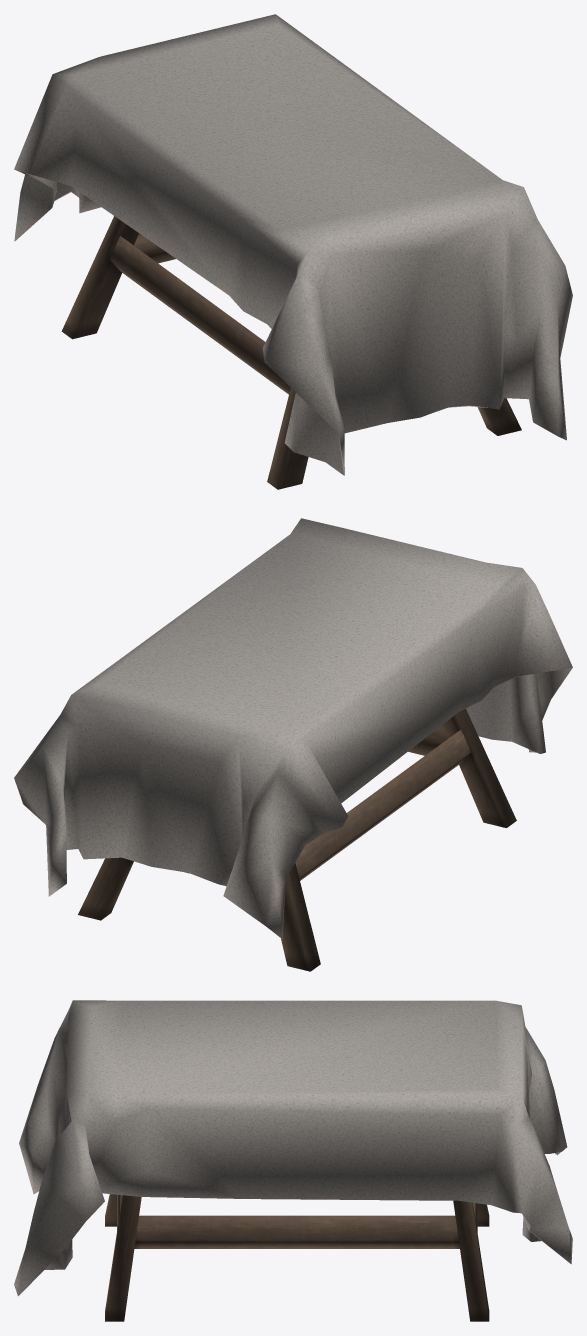
Rendered from Table.fbx.
The picture shows the model from 3 angles, top to bottom: view 1: azimuth 30°, elevation 25°; view 2: azimuth 150°, elevation 25°; view 3: azimuth 270°, elevation 25°; orthographic projection. The views are drawn at different scales.
Parts seen in each view (by area): view 1: Table_cloth_low, Table_body_low; view 2: Table_cloth_low, Table_body_low; view 3: Table_cloth_low, Table_body_low.
Boxes of the visible parts, <box> form: Table_cloth_low: <box>14,14,572,475</box>; Table_body_low: <box>61,216,521,489</box>; Table_cloth_low: <box>14,518,572,939</box>; Table_body_low: <box>78,708,516,971</box>; Table_cloth_low: <box>14,1000,572,1296</box>; Table_body_low: <box>105,1194,489,1321</box>.
Size of the model in its own units: 0.9535 by 0.6992 by 1.56.
